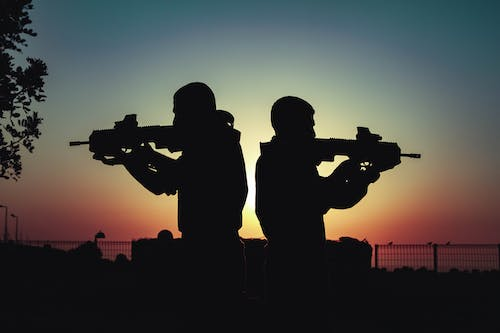gun: (259, 125, 422, 174), (68, 113, 183, 156)
